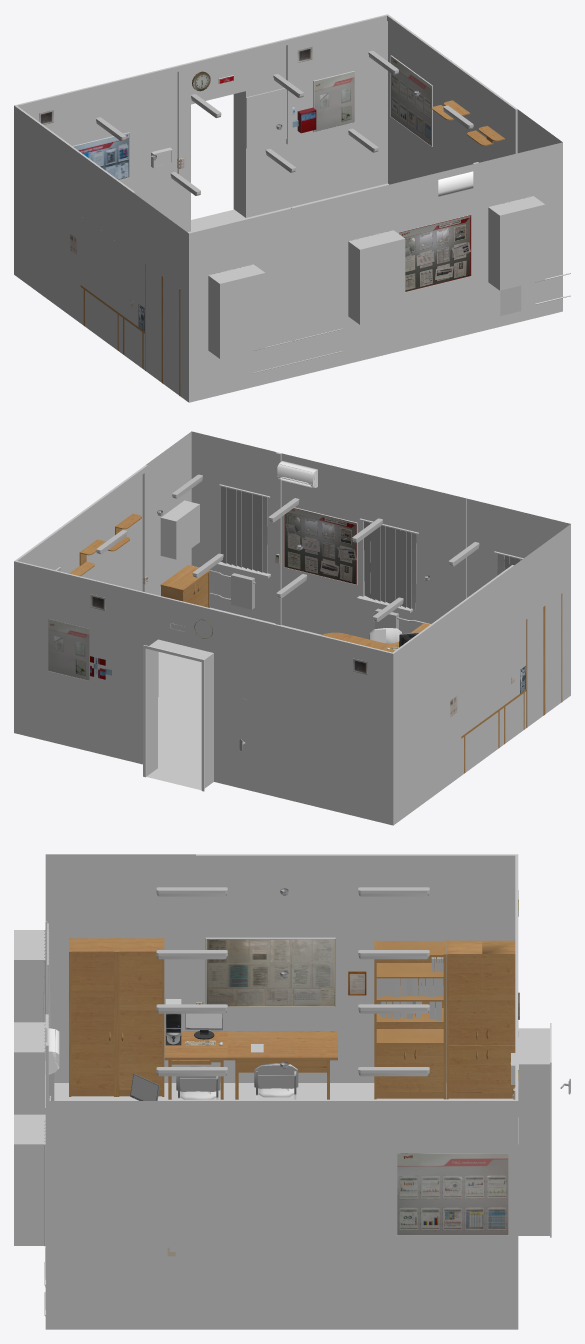
The model's file is DSP_new.fbx.
The picture shows the model from 3 angles, top to bottom: view 1: azimuth 30°, elevation 25°; view 2: azimuth 150°, elevation 25°; view 3: azimuth 270°, elevation 25°; orthographic projection. The views are drawn at different scales.
Visible parts, largest first — view 1: mechanicks, Box365, Box263, Box362, Box255, Box290, Box260, shkaf_praviy001, Box254, floor002, Box264, Box266 (+6 smaller); view 2: mechanicks, floor002, Box365, shkaf_praviy001, windo001, windo002, Box256, Box362, Box260, Box267, Box290, nalichnik (+8 smaller); view 3: mechanicks, shkaf_praviy001, Box255, floor002, Box264, Box267, Box361, chair001, Box265, chair, Box263, Box254 (+4 smaller).
Part boxes in pixels (x1,y1,x2,y2): mechanicks: (14,21,570,402); Box365: (399,215,470,291); Box263: (16,14,388,109); Box362: (81,217,129,302); Box255: (391,56,431,145); Box290: (246,88,286,148); Box260: (314,71,354,131); shkaf_praviy001: (80,100,504,395); Box254: (387,15,517,114); floor002: (188,183,388,233); Box264: (14,105,131,195); Box266: (473,162,478,332); mechanicks: (14,431,570,825); floor002: (146,607,321,790); Box365: (284,508,356,584); shkaf_praviy001: (69,513,562,773); windo001: (359,518,418,609); windo002: (219,484,270,573); Box256: (276,681,352,744); Box362: (462,631,510,717); Box260: (48,619,89,680); Box267: (160,500,199,559); Box290: (117,636,158,696); nalichnik: (143,645,204,791); mechanicks: (14,854,549,1329); shkaf_praviy001: (69,938,515,1099); Box255: (397,1153,508,1235); floor002: (54,1083,512,1100); Box264: (204,854,518,862); Box267: (64,1186,127,1236); Box361: (376,957,443,997); chair001: (254,1063,298,1099); Box265: (196,854,203,1031); chair: (176,1066,220,1099); Box263: (515,855,518,1100); Box254: (167,1099,515,1100).
Bounding box in the file's own units: 5.07 × 2.16 × 4.74.
